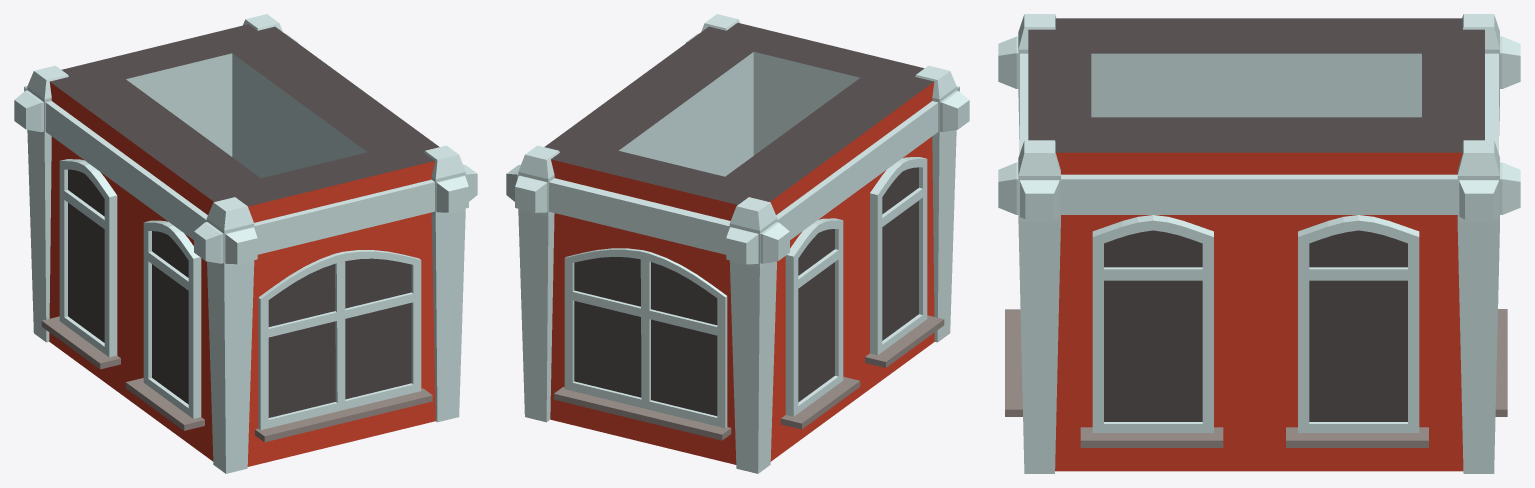
The model's file is Testhouse_Floor_Small_VAR2.fbx.
3 views of the same model, side by side, from view 1: azimuth 30°, elevation 25°; view 2: azimuth 150°, elevation 25°; view 3: azimuth 270°, elevation 25° (orthographic). The views are drawn at different scales.
Parts seen in each view (by area): view 1: Testhouse_FloorSmall.002; view 2: Testhouse_FloorSmall.002; view 3: Testhouse_FloorSmall.002.
Part boxes in pixels (x1,y1,x2,y2): Testhouse_FloorSmall.002: [14, 14, 477, 473]; Testhouse_FloorSmall.002: [506, 14, 969, 473]; Testhouse_FloorSmall.002: [998, 14, 1520, 473].
Size of the model in its own units: 109 by 149 by 101.
